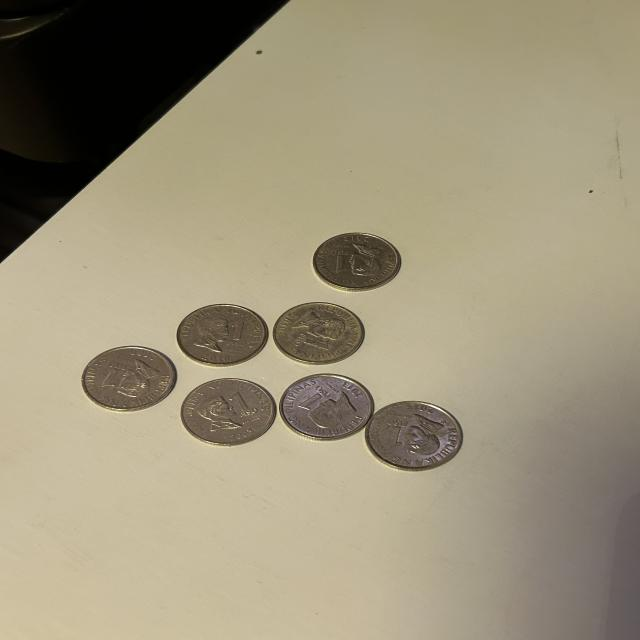1_Old_Front: (288, 329, 332, 356), (224, 318, 254, 354), (299, 385, 332, 414), (98, 362, 126, 396), (228, 392, 263, 419), (323, 248, 354, 278), (388, 416, 408, 449)
